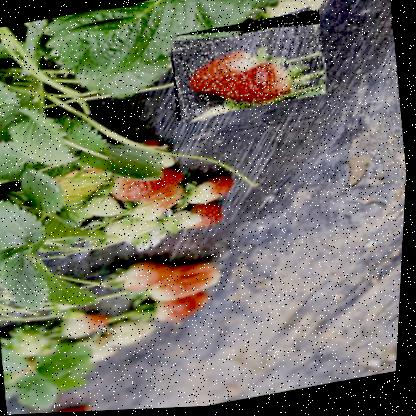strawberry: (165, 11, 331, 124)
